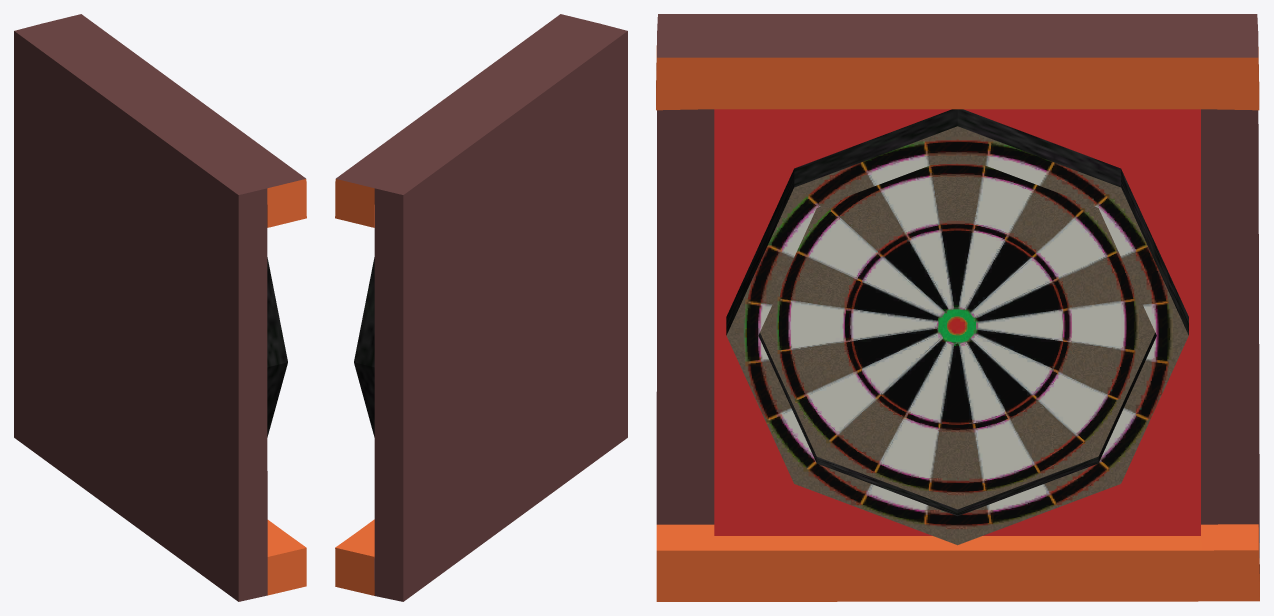
File: Dartboard.fbx
The picture shows the model from 3 angles, left to right: view 1: azimuth 30°, elevation 25°; view 2: azimuth 150°, elevation 25°; view 3: azimuth 270°, elevation 25°; orthographic projection. The views are drawn at different scales.
Parts seen in each view (by area): view 1: Dartboard; view 2: Dartboard; view 3: Dartboard.
Part boxes in pixels (<box>): Dartboard: <box>14,14,306,601</box>; Dartboard: <box>335,14,627,601</box>; Dartboard: <box>656,14,1259,601</box>.
Bounding box in the file's own units: 22.69 × 117 × 118.
